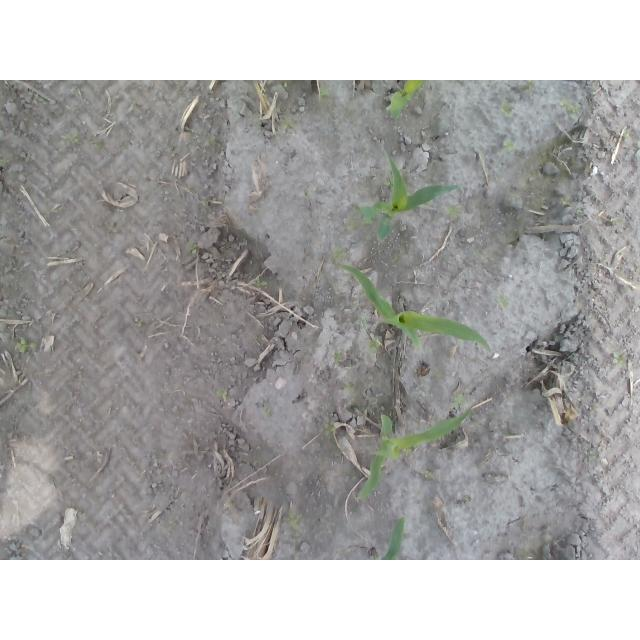Maize: (340, 264, 493, 354), (355, 404, 474, 502), (358, 148, 461, 243), (387, 81, 426, 119), (377, 516, 407, 560)
Weeds: (284, 512, 305, 536), (561, 100, 584, 117), (15, 338, 37, 354), (281, 114, 296, 134), (500, 99, 516, 117), (611, 352, 627, 369), (61, 130, 80, 144), (365, 339, 382, 354), (447, 204, 461, 221), (503, 139, 517, 154), (495, 295, 510, 309), (324, 422, 336, 439), (449, 393, 463, 407), (249, 278, 269, 287), (321, 89, 335, 100), (217, 387, 230, 398), (186, 242, 197, 255), (263, 406, 274, 418), (362, 317, 371, 331), (345, 383, 356, 393), (432, 373, 445, 381), (425, 470, 436, 479), (333, 350, 340, 363), (134, 317, 143, 327), (302, 189, 311, 199)
